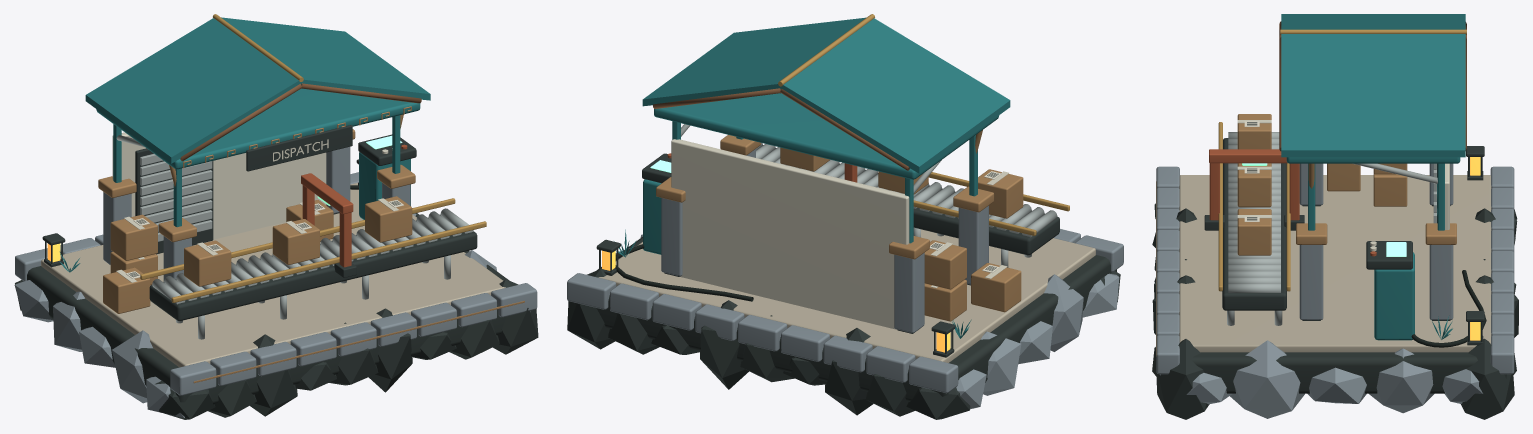
The model's file is payments-v4.glb.
3 views of the same model, side by side, from view 1: azimuth 30°, elevation 25°; view 2: azimuth 150°, elevation 25°; view 3: azimuth 270°, elevation 25° (orthographic). The views are drawn at different scales.
Visible parts, largest first — view 1: payments_Petrol enamel, payments_Graphite enamel, payments_Concrete, payments_Cut limestone, payments_Brushed aluminum, payments_Timber end grain, payments_Warm chalk, payments_Warm brass, payments_Oxide paint, parcel_0_Timber end grain, parcel_2_Timber end grain, parcel_1_Timber end grain (+1 smaller); view 2: payments_Petrol enamel, payments_Warm chalk, payments_Concrete, payments_Graphite enamel, payments_Cut limestone, payments_Timber end grain, payments_Brushed aluminum, payments_Warm brass, parcel_0_Timber end grain, payments_Oiled timber, payments_Rubber and cables, parcel_2_Timber end grain (+1 smaller); view 3: payments_Petrol enamel, payments_Cut limestone, payments_Concrete, payments_Graphite enamel, payments_Brushed aluminum, payments_Timber end grain, payments_Oxide paint, payments_Warm brass, parcel_2_Timber end grain, parcel_1_Timber end grain, parcel_0_Timber end grain, payments_Oiled timber (+4 smaller).
Part boxes in pixels (x1,y1,x2,y2): payments_Petrol enamel: [59, 17, 430, 272]; payments_Graphite enamel: [15, 125, 538, 419]; payments_Concrete: [14, 146, 537, 417]; payments_Cut limestone: [41, 182, 505, 367]; payments_Brushed aluminum: [116, 135, 473, 339]; payments_Timber end grain: [98, 106, 524, 383]; payments_Warm chalk: [112, 132, 392, 282]; payments_Warm brass: [140, 14, 486, 302]; payments_Oxide paint: [301, 144, 407, 267]; parcel_0_Timber end grain: [184, 240, 231, 286]; parcel_2_Timber end grain: [365, 196, 412, 242]; parcel_1_Timber end grain: [272, 219, 319, 264]; payments_Petrol enamel: [614, 17, 1010, 338]; payments_Warm chalk: [671, 139, 1007, 329]; payments_Concrete: [567, 149, 1123, 409]; payments_Graphite enamel: [567, 145, 1120, 419]; payments_Cut limestone: [598, 229, 1095, 362]; payments_Timber end grain: [656, 130, 1021, 321]; payments_Brushed aluminum: [681, 124, 1057, 267]; payments_Warm brass: [778, 14, 1069, 235]; parcel_0_Timber end grain: [978, 169, 1023, 218]; payments_Oiled timber: [653, 88, 909, 170]; payments_Rubber and cables: [615, 244, 753, 301]; parcel_2_Timber end grain: [780, 147, 829, 171]; payments_Petrol enamel: [1281, 14, 1465, 340]; payments_Cut limestone: [1179, 175, 1491, 352]; payments_Concrete: [1156, 163, 1514, 418]; payments_Graphite enamel: [1152, 138, 1518, 419]; payments_Brushed aluminum: [1227, 132, 1437, 325]; payments_Timber end grain: [1156, 163, 1456, 356]; payments_Oxide paint: [1209, 149, 1376, 256]; payments_Warm brass: [1218, 29, 1466, 291]; parcel_2_Timber end grain: [1237, 209, 1271, 255]; parcel_1_Timber end grain: [1237, 163, 1271, 207]; parcel_0_Timber end grain: [1237, 114, 1271, 149]; payments_Oiled timber: [1279, 21, 1466, 151].
Size of the model in its own units: 5.62 by 4.1 by 4.32.
